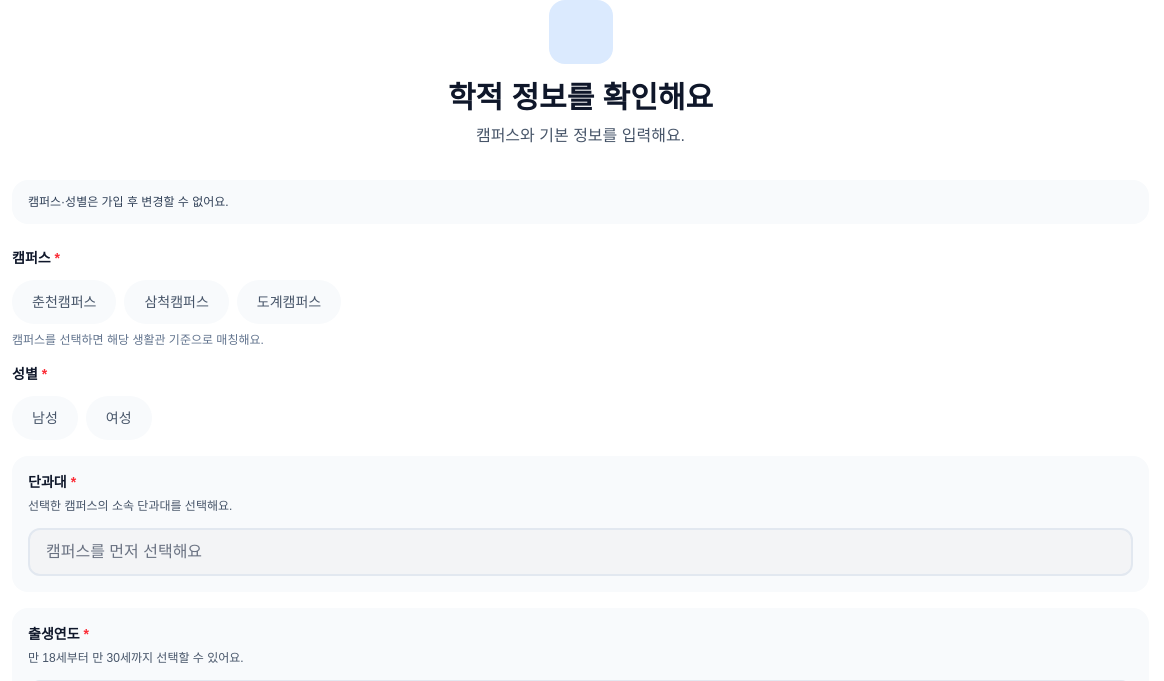
Test case: AcademicIdentityStep › 삼척캠퍼스도 운영 생활관 기준의 매칭 안내를 제공한다
This screenshot has width=1164, height=681.
Click the radio button labelled "삼척캠퍼스" at (177,302), box [124,280,229,324]
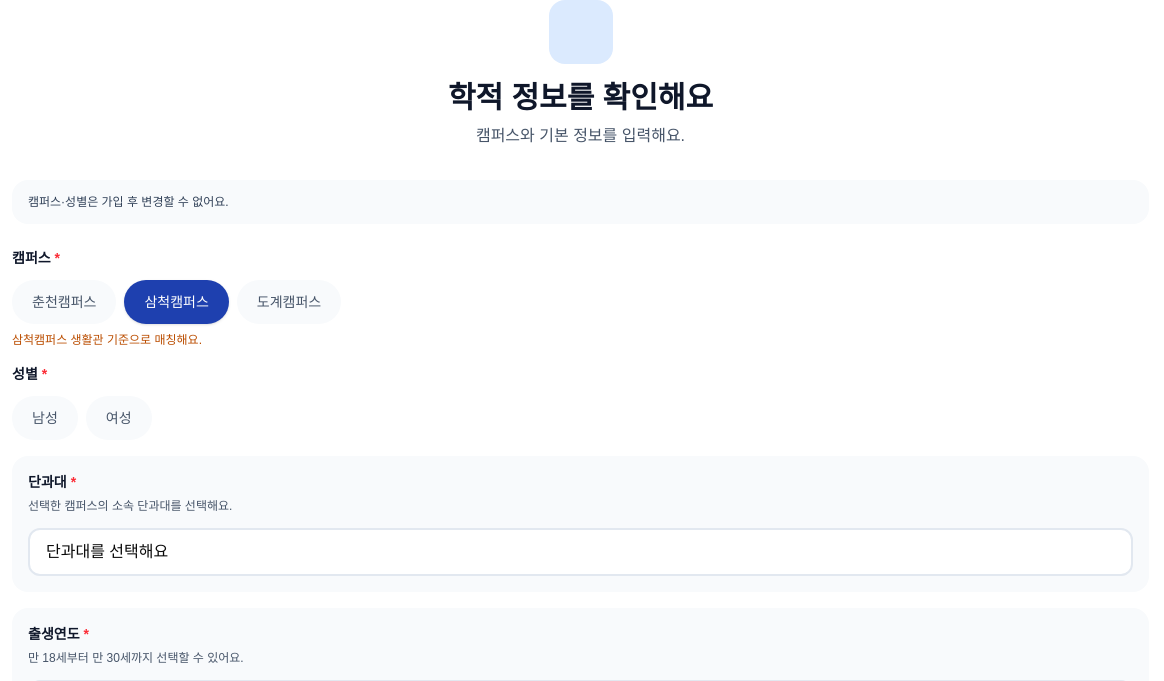
Expected: the text "삼척캠퍼스 생활관 기준으로 매칭해요." is shown, [12,333,202,347]
